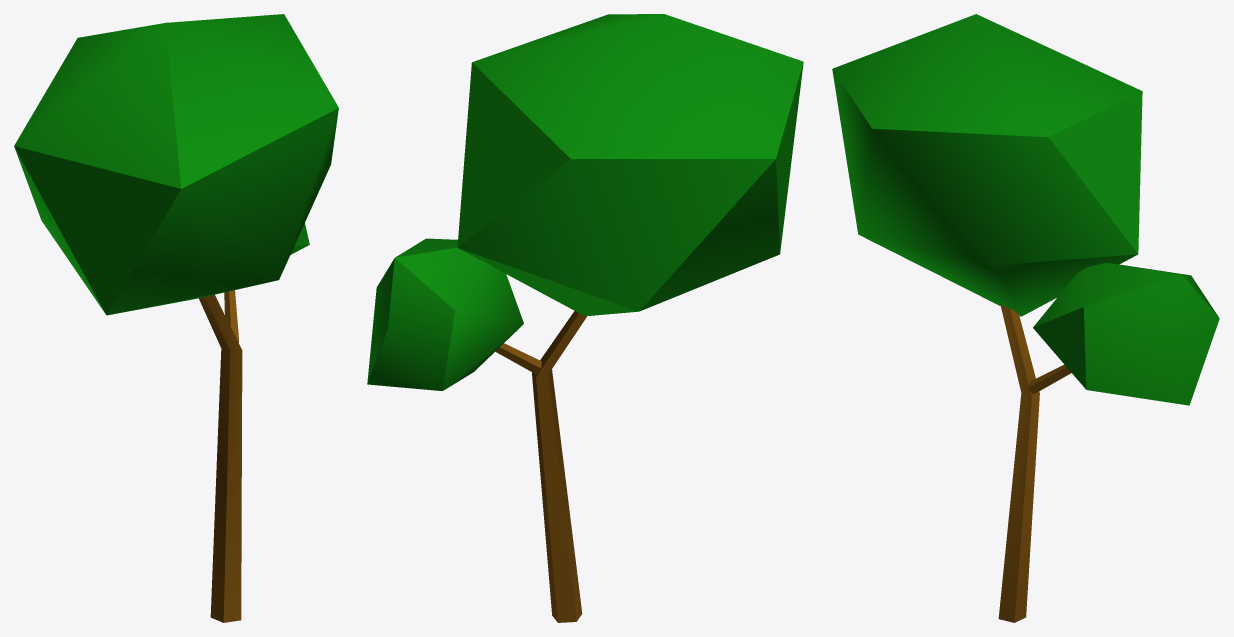
Rendered from M_Tree5.fbx.
The picture shows the model from 3 angles, left to right: view 1: azimuth 30°, elevation 25°; view 2: azimuth 150°, elevation 25°; view 3: azimuth 270°, elevation 25°; orthographic projection. The views are drawn at different scales.
Visible parts, largest first — view 1: M_Tree5; view 2: M_Tree5; view 3: M_Tree5.
Part boxes in pixels (x1,y1,x2,y2): M_Tree5: (14,14,338,622); M_Tree5: (367,14,803,622); M_Tree5: (832,14,1219,622).
Bounding box in the file's own units: 2.47 × 4.39 × 2.72.
